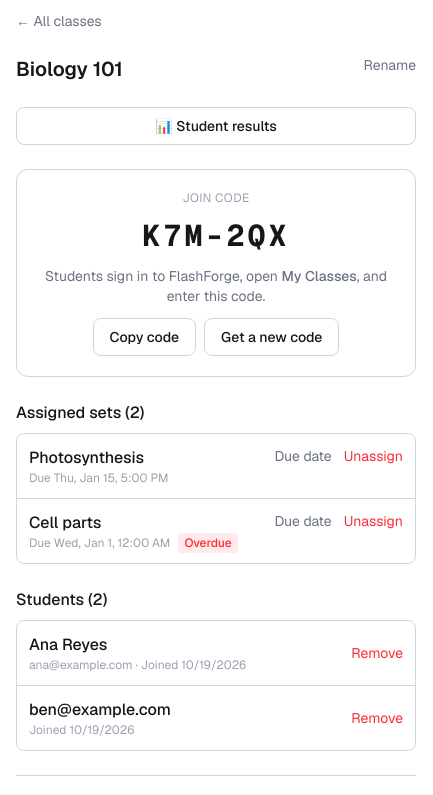
Test: class page › copies the formatted code
Click the button "Copy code" at (144,337), box left=93, top=318, right=196, bottom=356
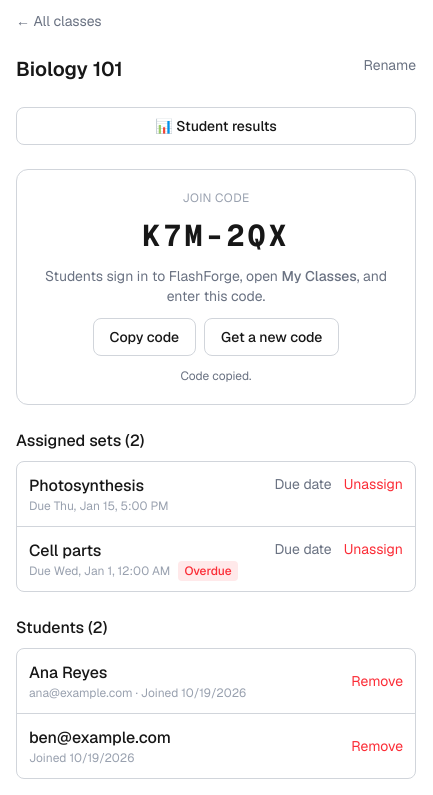
Result: the message reads "Code copied." at left=180, top=368, right=252, bottom=384
